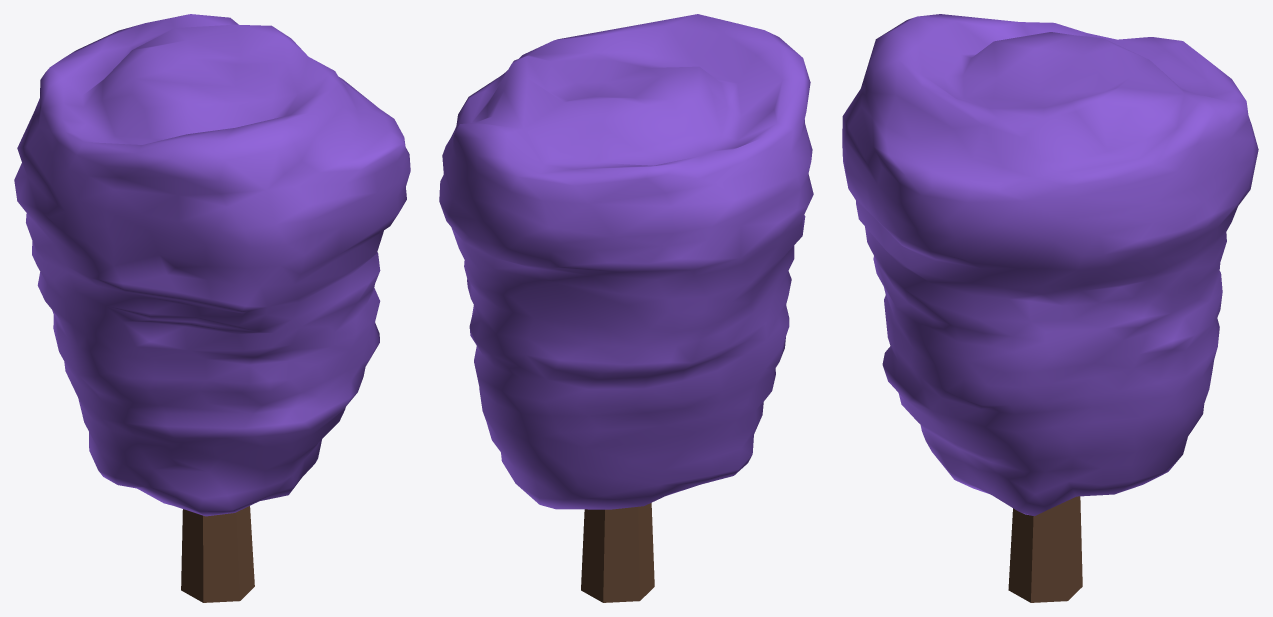
File: arvore_fabulosa_pacote.glb
3 renders of one model, left to right at view 1: azimuth 30°, elevation 25°; view 2: azimuth 150°, elevation 25°; view 3: azimuth 270°, elevation 25°, orthographic.
Visible parts, largest first — view 1: arvore_fabulosa_pacote; view 2: arvore_fabulosa_pacote; view 3: arvore_fabulosa_pacote.
Boxes of the visible parts, box(x1,y1,x2,y2) form: arvore_fabulosa_pacote: box(14, 14, 410, 602); arvore_fabulosa_pacote: box(439, 14, 813, 602); arvore_fabulosa_pacote: box(842, 14, 1258, 602).
Bounding box in the file's own units: 4.51 × 6.97 × 4.99.
Materials: 1 (1 with a texture image).
